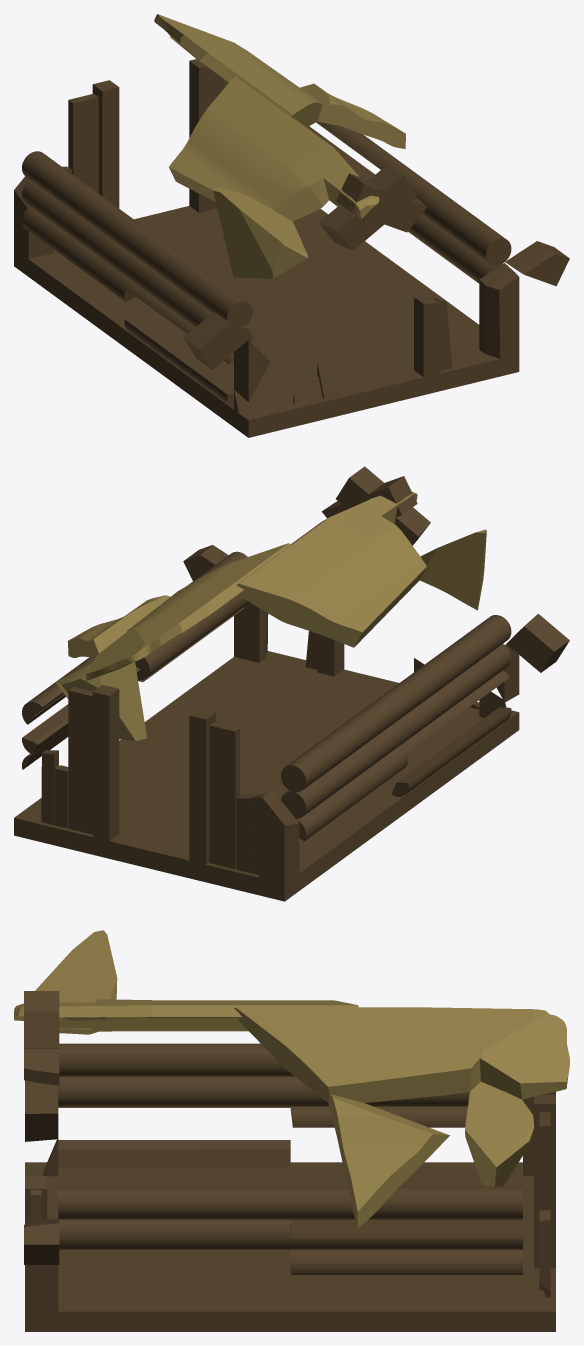
Rendered from HouseBroken.glb.
3 views of the same model, one above another, from view 1: azimuth 30°, elevation 25°; view 2: azimuth 150°, elevation 25°; view 3: azimuth 270°, elevation 25° (orthographic). The views are drawn at different scales.
Parts seen in each view (by area): view 1: Floor_cell, Floor_cell.001, Thatch1_cell.019, Wall3_cell.002, Wall2_cell.003, Wall3_cell.007, Wall1_cell.007, Thatch1_cell.004, Wall2_cell.002, Wall4_cell.001, Wall2_cell.012, Thatch2_cell.011 (+6 smaller); view 2: Floor_cell, Thatch1_cell.019, Floor_cell.001, Wall1_cell.007, Wall3_cell.002, Wall1_cell.017, Wall3_cell.007, Thatch2_cell.011, Wall2_cell.003, Thatch1_cell.004, Wall2_cell.002, Wall2_cell.012 (+7 smaller); view 3: Floor_cell, Thatch2_cell.011, Wall4_cell.002, Wall4_cell.001, Wall3_cell.007, Floor_cell.001, Thatch2_cell.015, Thatch2_cell.003, Wall3_cell.001, Thatch1_cell.019, Thatch2_cell.014, Wall2_cell.003 (+7 smaller).
Boxes of the visible parts, x1,y1,x2,y2 form: Floor_cell: [149, 206, 519, 404]; Floor_cell.001: [14, 215, 384, 437]; Thatch1_cell.019: [169, 76, 349, 221]; Wall3_cell.002: [22, 151, 144, 301]; Wall2_cell.003: [414, 241, 569, 377]; Wall3_cell.007: [124, 226, 252, 363]; Wall1_cell.007: [14, 80, 119, 259]; Thatch1_cell.004: [213, 187, 307, 278]; Wall2_cell.002: [183, 312, 342, 412]; Wall4_cell.001: [392, 163, 511, 283]; Wall2_cell.012: [319, 164, 426, 250]; Thatch2_cell.011: [180, 35, 322, 127]; Floor_cell: [14, 651, 383, 868]; Thatch1_cell.019: [236, 506, 426, 647]; Floor_cell.001: [149, 679, 519, 901]; Wall1_cell.007: [189, 708, 299, 883]; Wall3_cell.002: [281, 690, 409, 841]; Wall1_cell.017: [41, 685, 119, 841]; Wall3_cell.007: [389, 615, 511, 752]; Thatch2_cell.011: [127, 543, 291, 634]; Wall2_cell.003: [183, 545, 344, 676]; Thatch1_cell.004: [420, 529, 486, 610]; Wall2_cell.002: [414, 613, 569, 722]; Wall2_cell.012: [322, 466, 430, 545]; Floor_cell: [25, 1236, 555, 1331]; Thatch2_cell.011: [234, 1007, 483, 1102]; Wall4_cell.002: [289, 1186, 522, 1274]; Wall4_cell.001: [58, 1186, 290, 1250]; Wall3_cell.007: [58, 1043, 290, 1107]; Floor_cell.001: [25, 1162, 533, 1236]; Thatch2_cell.015: [328, 1094, 449, 1228]; Thatch2_cell.003: [480, 1008, 569, 1099]; Wall3_cell.001: [58, 1140, 290, 1166]; Thatch1_cell.019: [91, 999, 358, 1031]; Thatch2_cell.014: [465, 1082, 534, 1186]; Wall2_cell.003: [24, 1175, 59, 1311].
Bounding box in the file's own units: 21.92 × 12.73 × 25.13.
